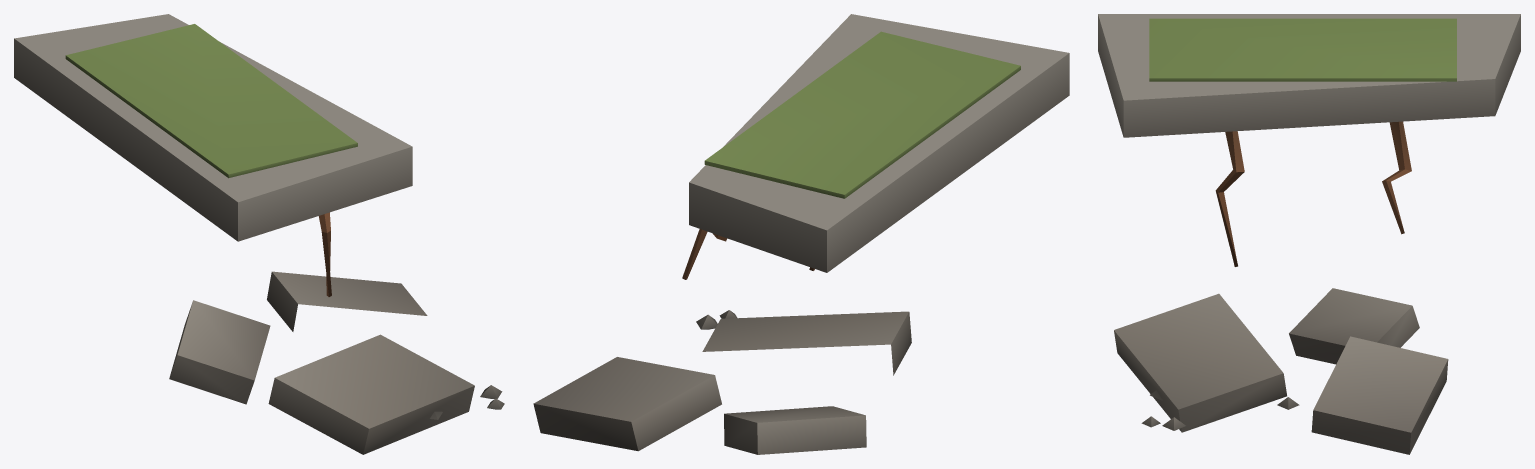
The model's file is ruins-collapse-low.glb.
The picture shows the model from 3 angles, left to right: view 1: azimuth 30°, elevation 25°; view 2: azimuth 150°, elevation 25°; view 3: azimuth 270°, elevation 25°; orthographic projection. The views are drawn at different scales.
Visible parts, largest first — view 1: 0_ruins_collapse; view 2: 0_ruins_collapse; view 3: 0_ruins_collapse.
Boxes of the visible parts, <box> form: 0_ruins_collapse: <box>14,14,504,454</box>; 0_ruins_collapse: <box>533,14,1069,454</box>; 0_ruins_collapse: <box>1098,14,1520,454</box>.
Size of the model in its own units: 2.8 by 2.54 by 3.3.
